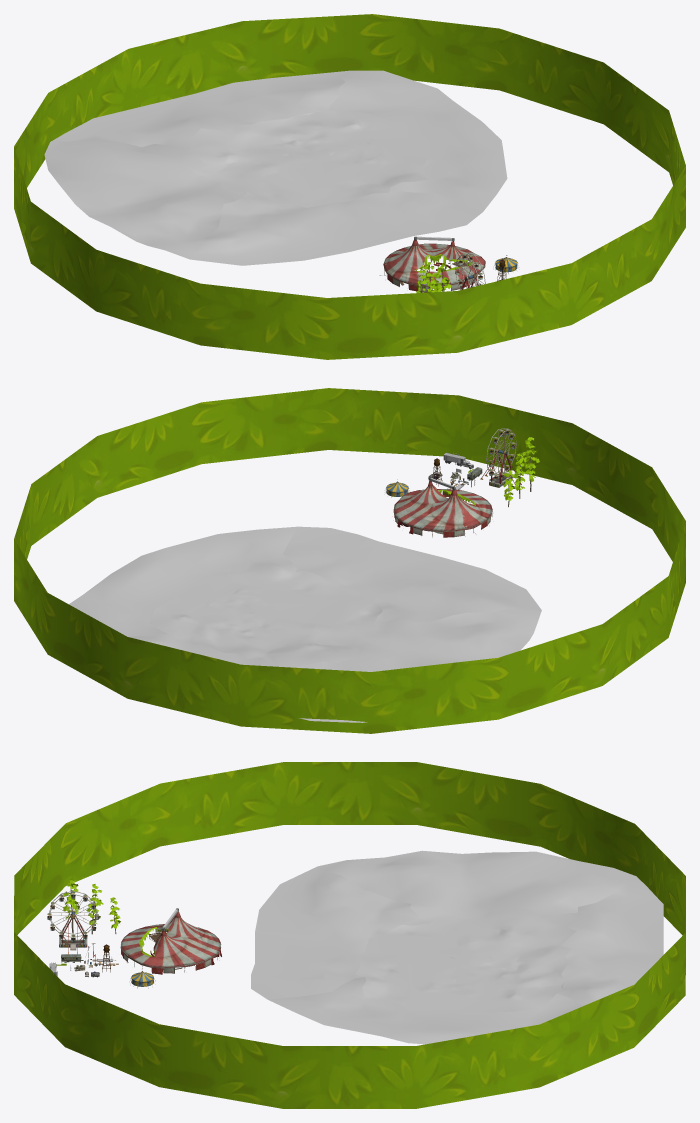
The model's file is Z06_Cirus.fbx.
3 renders of one model, top to bottom at view 1: azimuth 30°, elevation 25°; view 2: azimuth 150°, elevation 25°; view 3: azimuth 270°, elevation 25°, orthographic.
Visible parts, largest first — view 1: Trans_Z06_BackGround, Asset_Z06_Terrain, Asset_Z06_BigTent, Asset_Z06_Ferris; view 2: Trans_Z06_BackGround, Asset_Z06_Terrain, Asset_Z06_BigTent, Asset_Z06_Ferris; view 3: Trans_Z06_BackGround, Asset_Z06_Terrain, Asset_Z06_BigTent, Asset_Z06_Ferris.
Boxes of the visible parts, x1,y1,x2,y2 form: Trans_Z06_BackGround: (14,14,685,359); Asset_Z06_Terrain: (44,70,507,265); Asset_Z06_BigTent: (379,236,485,292); Asset_Z06_Ferris: (455,253,485,289); Trans_Z06_BackGround: (14,388,685,733); Asset_Z06_Terrain: (69,526,541,722); Asset_Z06_BigTent: (393,477,492,537); Asset_Z06_Ferris: (480,428,521,487); Trans_Z06_BackGround: (14,762,685,1108); Asset_Z06_Terrain: (251,850,663,1044); Asset_Z06_BigTent: (120,908,221,974); Asset_Z06_Ferris: (47,890,99,954).
Size of the model in its own units: 414 by 45.44 by 414.
